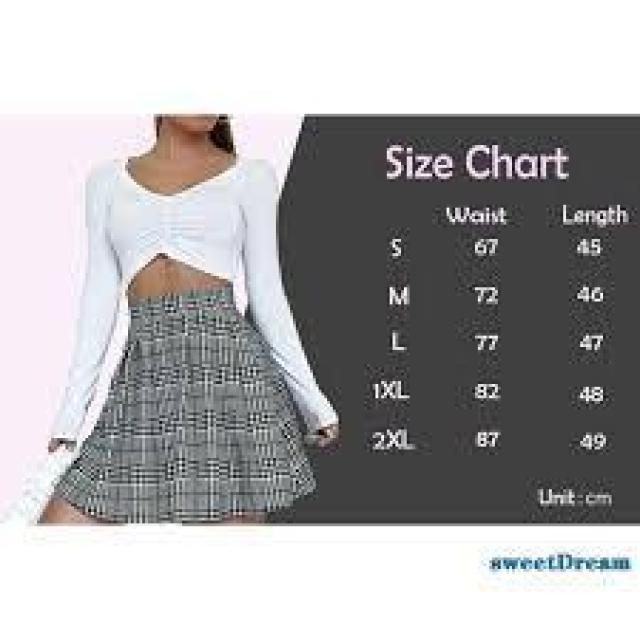skirt: (80, 304, 318, 515)
